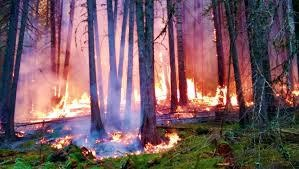fire: (37, 81, 90, 118), (184, 76, 238, 106)
